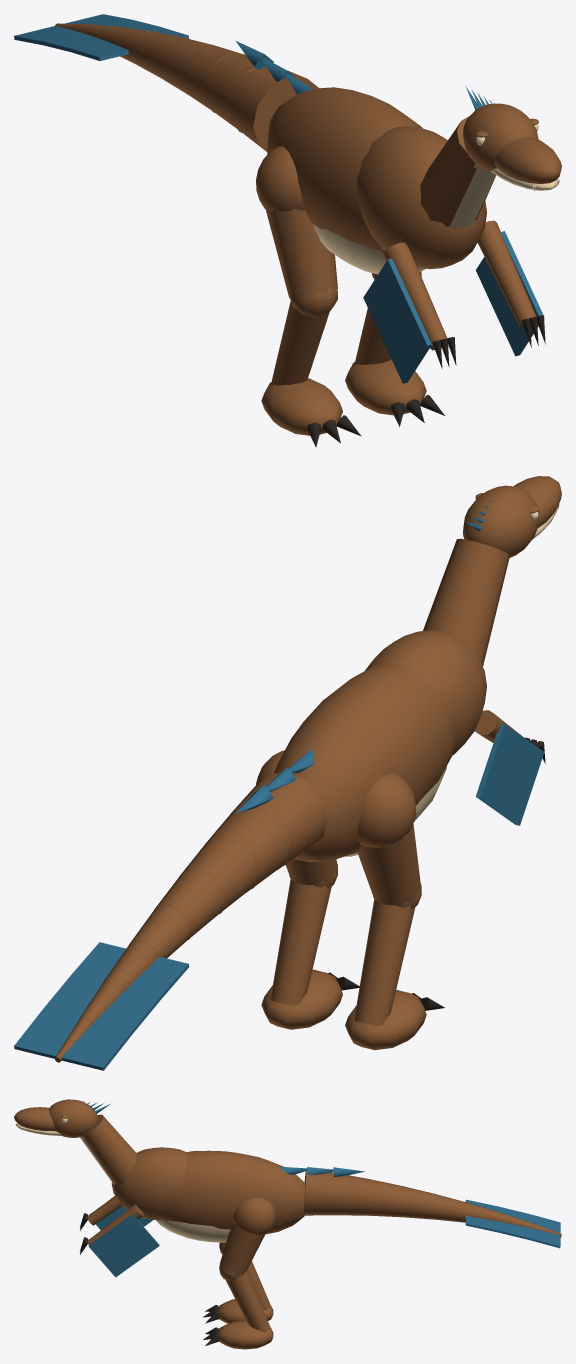
Rendered from dino_raptor.glb.
The picture shows the model from 3 angles, top to bottom: view 1: azimuth 30°, elevation 25°; view 2: azimuth 150°, elevation 25°; view 3: azimuth 270°, elevation 25°; orthographic projection. The views are drawn at different scales.
Parts seen in each view (by area): view 1: dino_hips, dino_arms_0_sh, dino_legs_0_hip, dino_head, dino_arms_1_sh, dino_neckBase, dino_legs_0_ankle, dino_legs_0_knee, dino_legs_1_ankle, dino_tail_0_p, dino_tail_1_p, dino_tail_2_p (+6 smaller); view 2: dino_hips, dino_legs_0_hip, dino_neckBase, dino_head, dino_arms_0_sh, dino_legs_0_knee, dino_legs_1_knee, dino_tail_7_p, dino_tail_6_p, dino_tail_5_p, dino_tail_1_p, dino_tail_0_p (+6 smaller); view 3: dino_hips, dino_arms_1_sh, dino_legs_1_hip, dino_head, dino_neckBase, dino_tail_0_p, dino_legs_1_knee, dino_legs_1_ankle, dino_tail_1_p, dino_tail_2_p, dino_tail_3_p, dino_tail_5_p (+6 smaller).
Part boxes in pixels (<box>): dino_hips: <box>235,40,486,274</box>; dino_arms_0_sh: <box>363,242,456,383</box>; dino_legs_0_hip: <box>256,146,337,298</box>; dino_head: <box>463,86,561,191</box>; dino_arms_1_sh: <box>475,220,545,356</box>; dino_neckBase: <box>420,116,496,228</box>; dino_legs_0_ankle: <box>261,378,361,447</box>; dino_legs_0_knee: <box>271,288,337,385</box>; dino_legs_1_ankle: <box>345,359,444,426</box>; dino_tail_0_p: <box>227,67,318,151</box>; dino_tail_1_p: <box>202,53,254,132</box>; dino_tail_2_p: <box>177,44,241,113</box>; dino_hips: <box>235,630,486,861</box>; dino_legs_0_hip: <box>357,774,421,907</box>; dino_neckBase: <box>423,538,509,666</box>; dino_head: <box>463,476,561,557</box>; dino_arms_0_sh: <box>475,710,545,825</box>; dino_legs_0_knee: <box>354,884,421,1026</box>; dino_legs_1_knee: <box>271,863,337,1005</box>; dino_tail_7_p: <box>14,1010,131,1070</box>; dino_tail_6_p: <box>42,975,160,1034</box>; dino_tail_5_p: <box>71,939,189,999</box>; dino_tail_1_p: <box>205,804,293,892</box>; dino_tail_0_p: <box>231,773,327,869</box>; dino_hips: <box>111,1147,364,1242</box>; dino_arms_1_sh: <box>80,1204,159,1277</box>; dino_legs_1_hip: <box>220,1197,275,1275</box>; dino_head: <box>14,1099,109,1137</box>; dino_neckBase: <box>80,1114,137,1184</box>; dino_tail_0_p: <box>303,1170,339,1215</box>; dino_legs_1_knee: <box>219,1264,270,1332</box>; dino_legs_1_ankle: <box>203,1320,273,1349</box>; dino_tail_1_p: <box>334,1175,372,1215</box>; dino_tail_2_p: <box>367,1179,404,1217</box>; dino_tail_3_p: <box>399,1186,437,1219</box>; dino_tail_5_p: <box>464,1199,500,1232</box>.
Bounding box in the file's own units: 0.646 × 1.75 × 3.7.
